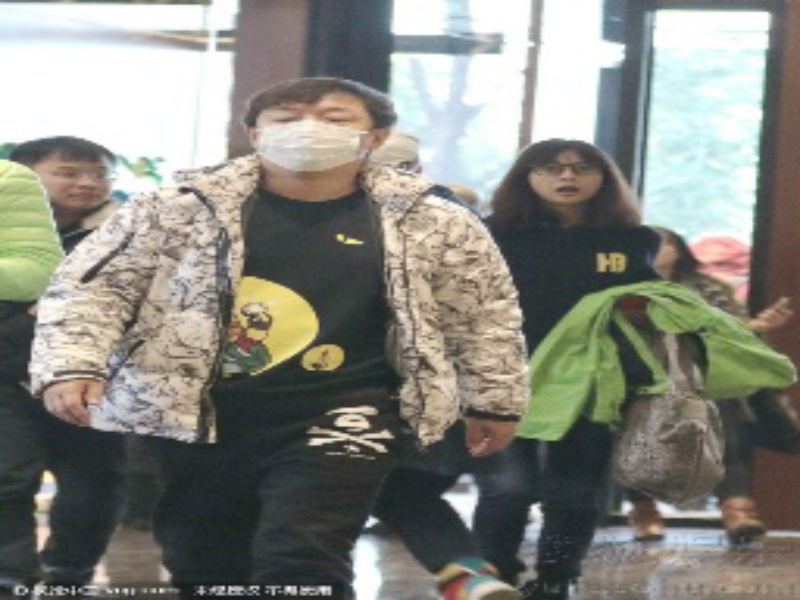ManaoArotava: (234, 68, 382, 201), (507, 124, 629, 238)
